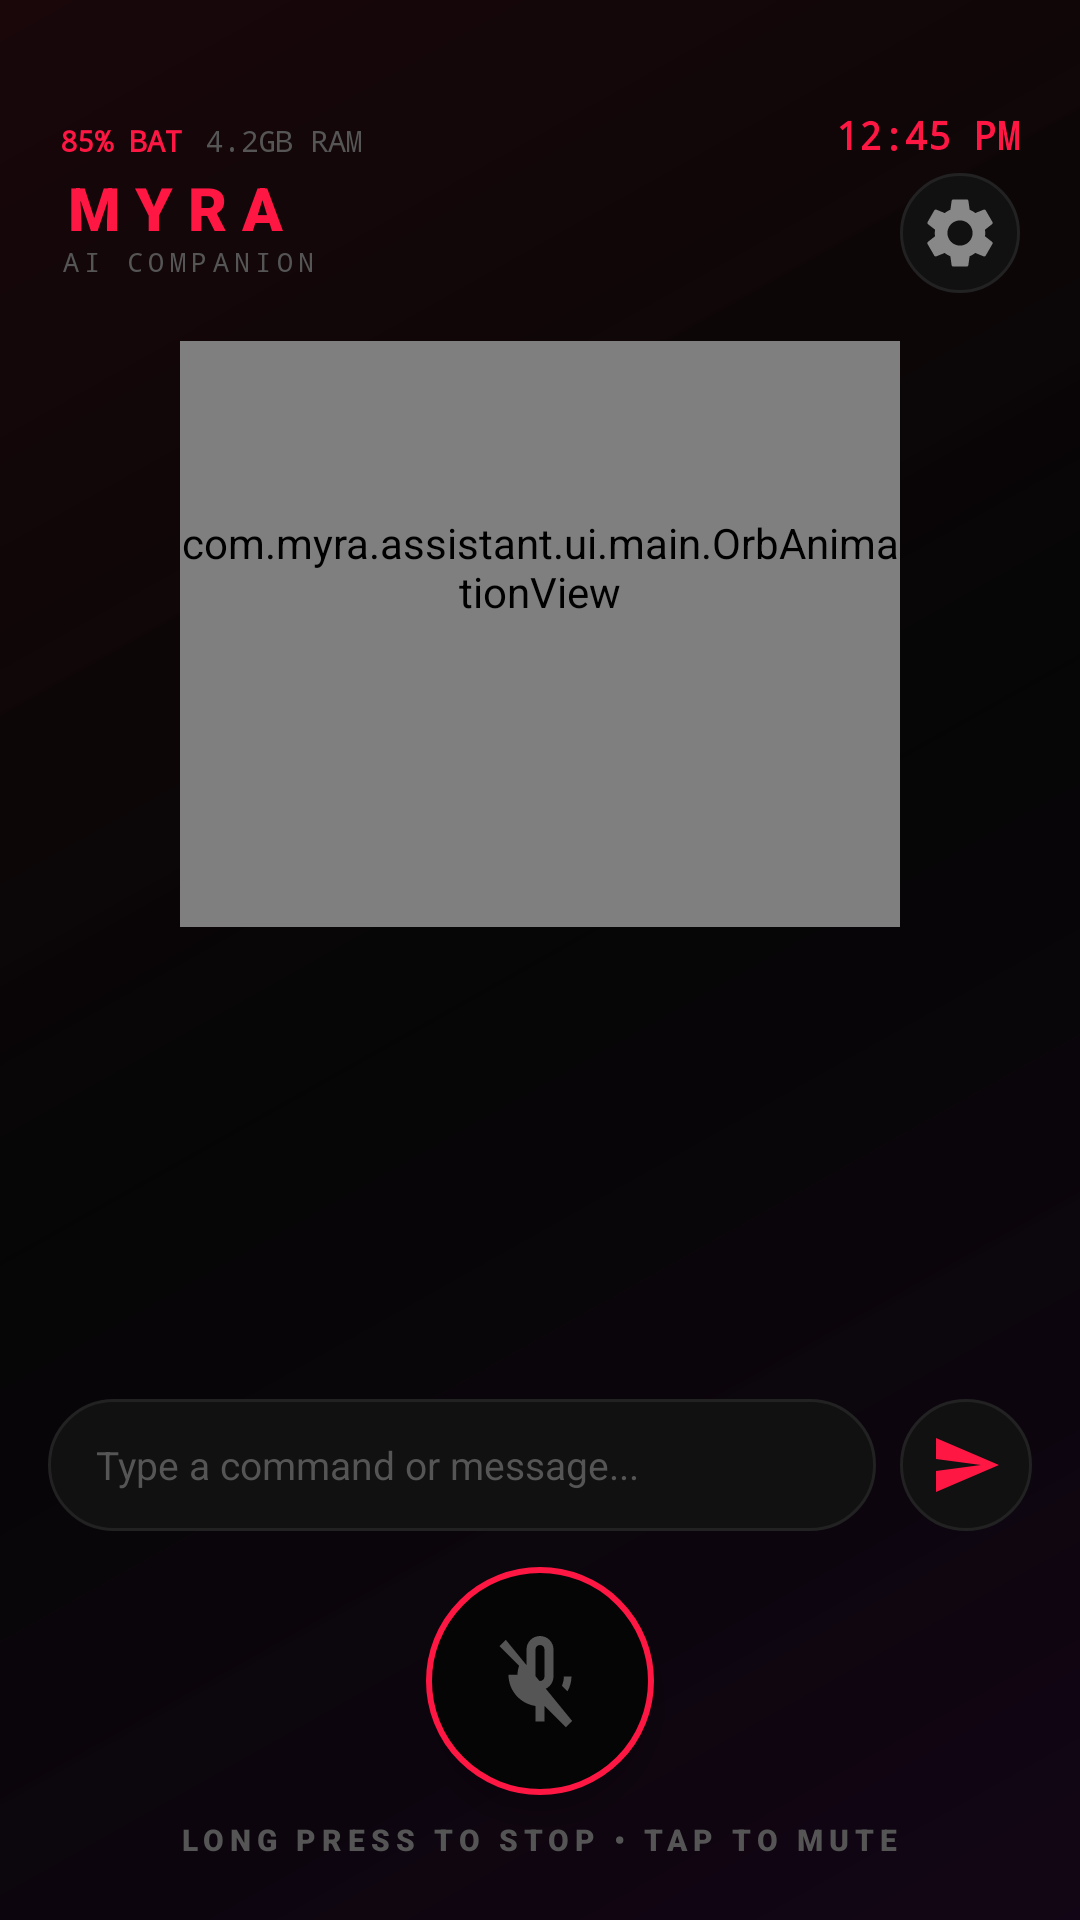

Icons on this 1080px×1920px Android screen, each with its box as (x1, y1, x2, y2):
Microphone: (426, 1567, 654, 1795)
Send text: (900, 1399, 1032, 1531)
Settings: (900, 173, 1020, 293)
